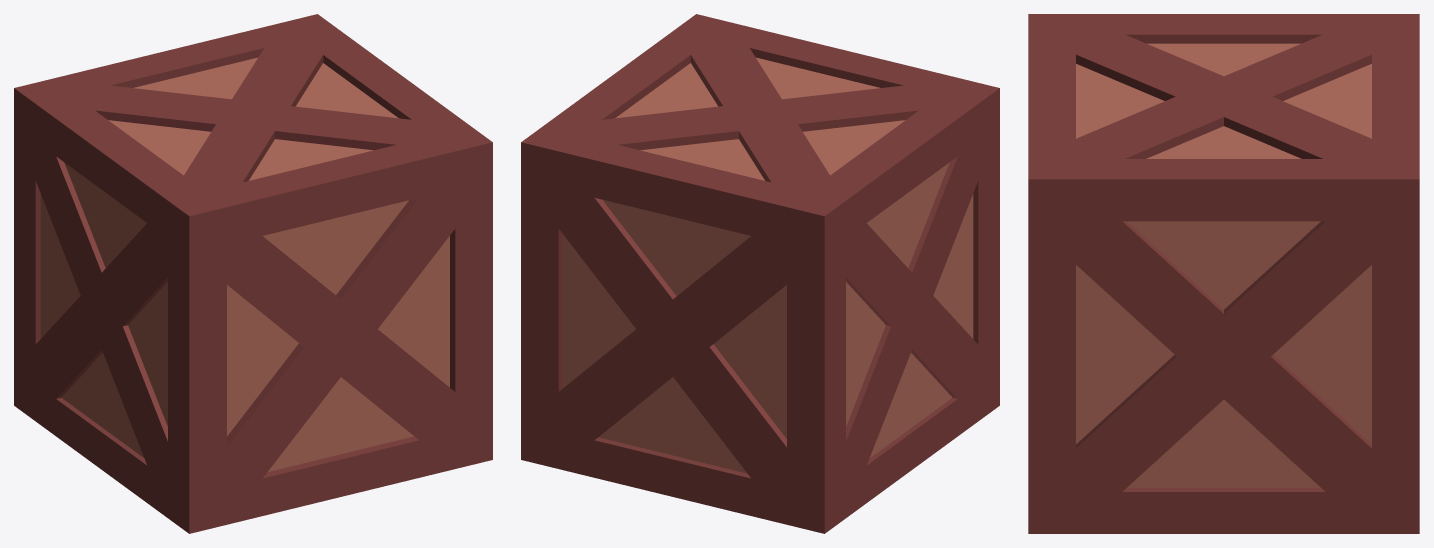
Rendered from crate.fbx.
The picture shows the model from 3 angles, left to right: view 1: azimuth 30°, elevation 25°; view 2: azimuth 150°, elevation 25°; view 3: azimuth 270°, elevation 25°; orthographic projection. The views are drawn at different scales.
Parts seen in each view (by area): view 1: Cube; view 2: Cube; view 3: Cube.
Boxes of the visible parts, x1,y1,x2,y2 form: Cube: (14, 14, 492, 533); Cube: (521, 14, 999, 533); Cube: (1028, 14, 1419, 533).
Size of the model in its own units: 200 by 200 by 200.
